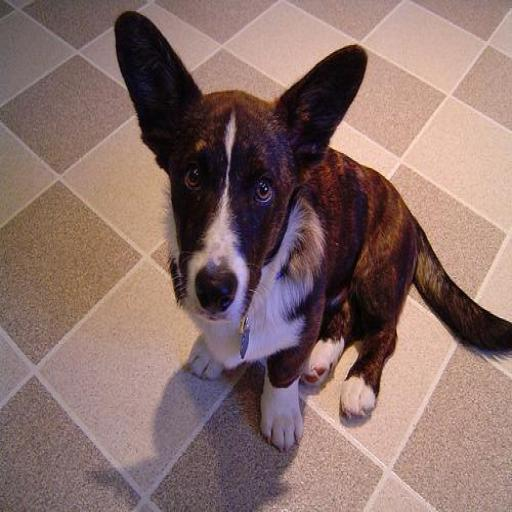dog_face: (106, 12, 368, 332)
